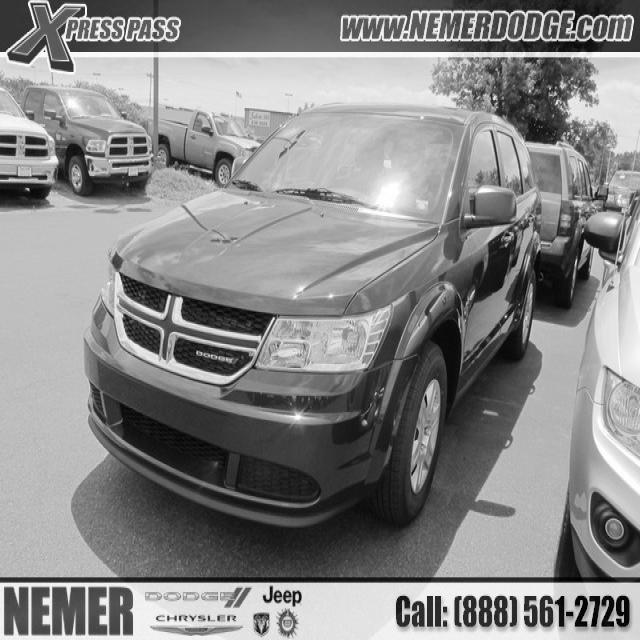car: (82, 102, 543, 530), (566, 189, 639, 580), (0, 85, 59, 199)
